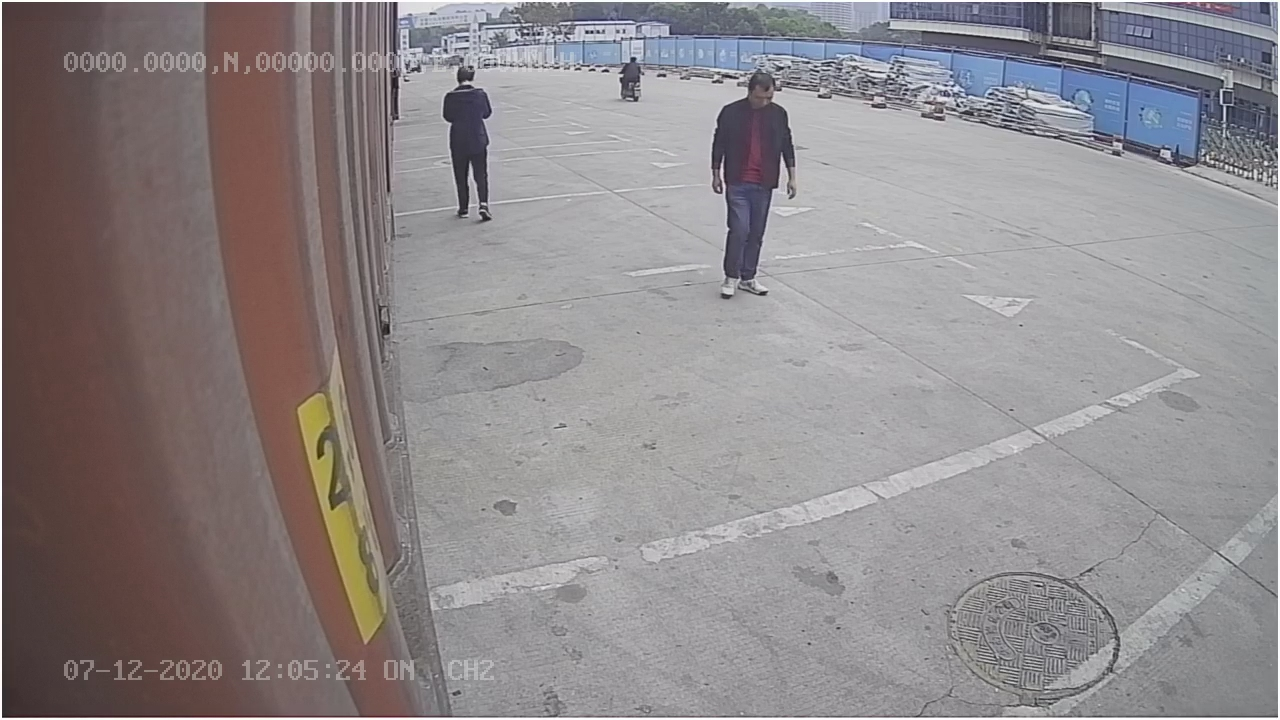person: (709, 65, 799, 302)
